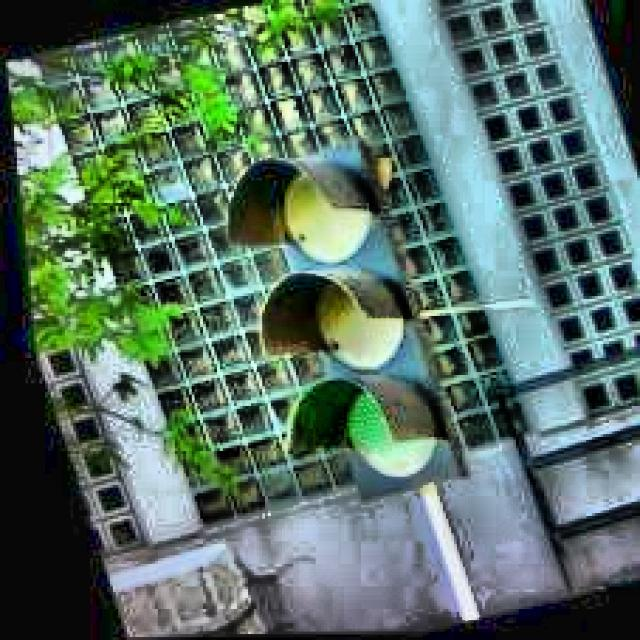green: (216, 137, 461, 506)
